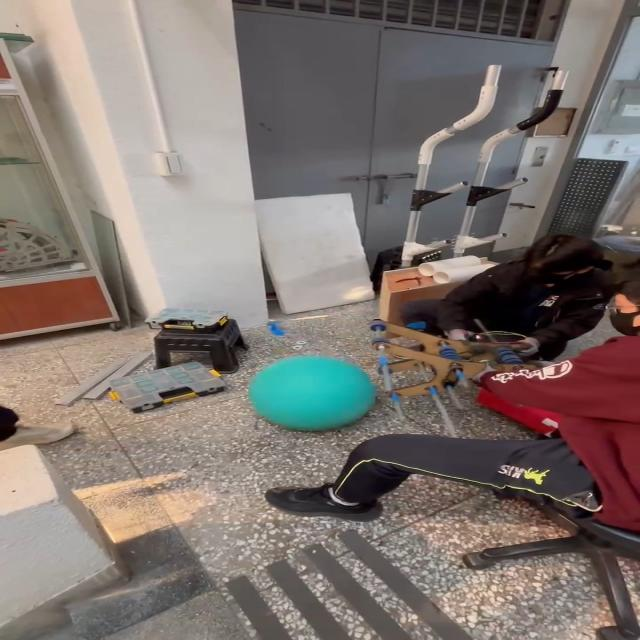ALGAE: (245, 354, 377, 432)
